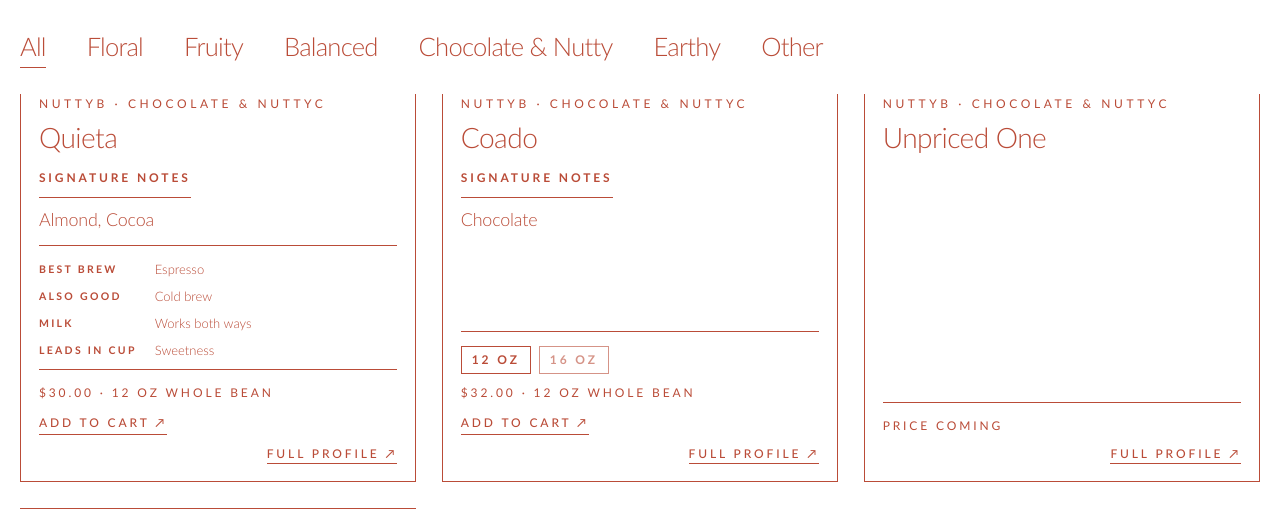
Scenario: the card › weight chips when a coffee has more than one price
(page scrolled)
Click the button "16 oz": (574, 360) [539, 346, 609, 374]
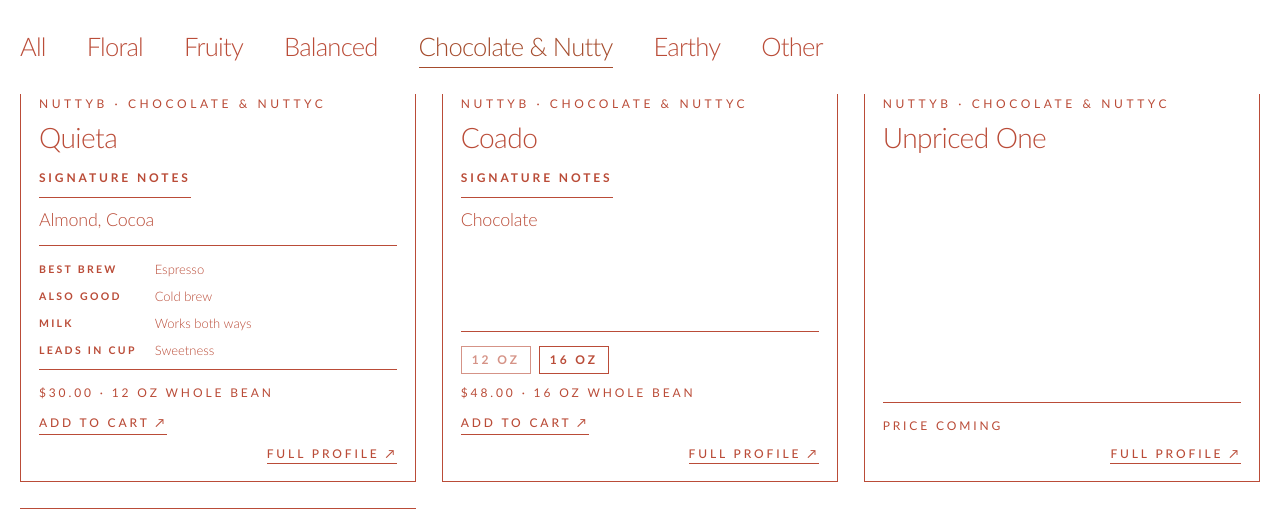
Expected: the text "$48.00 · 16 oz whole bean" is shown, [461, 384, 696, 402]
